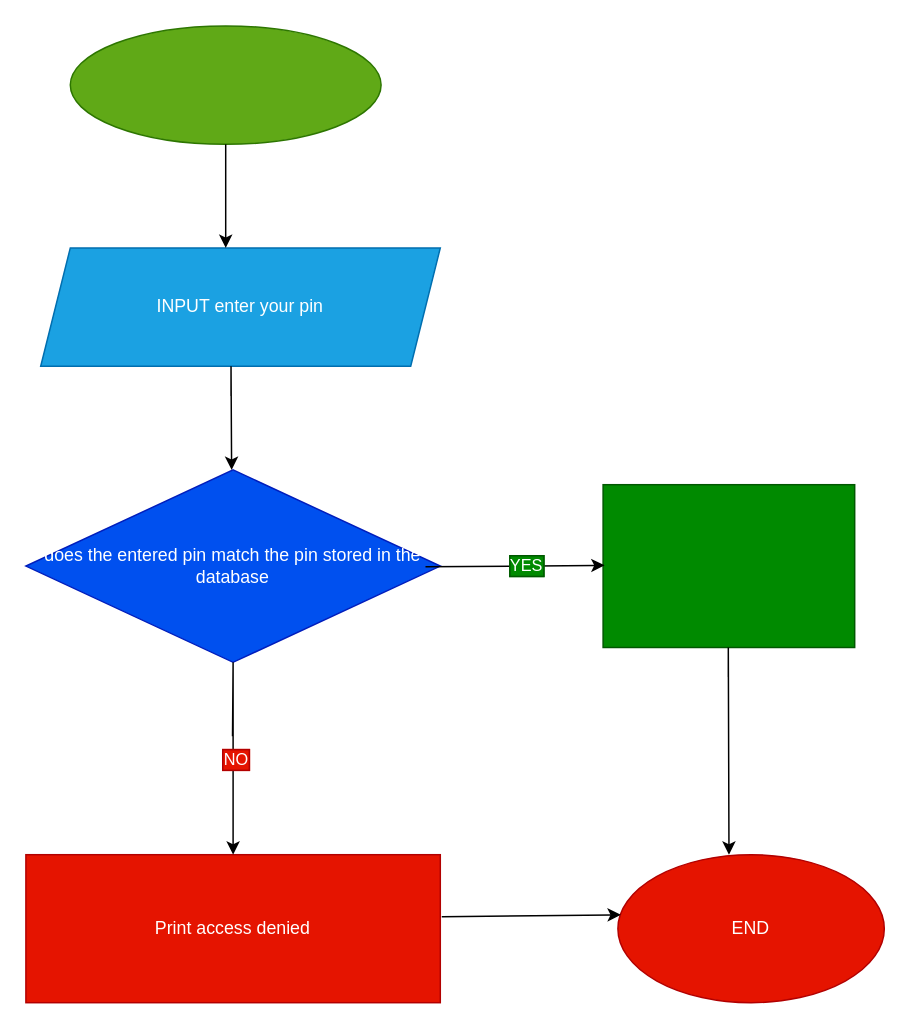
Some shapes in this 910 by 1029 pixel diagram are drawn without their labels. The shapes that lost their labels are listed below. From the top down, each one's centre as x and y in pixels, then its label:
At pixel 225 84: "BEGIN".
At pixel 728 565: "Print Access Granted".
